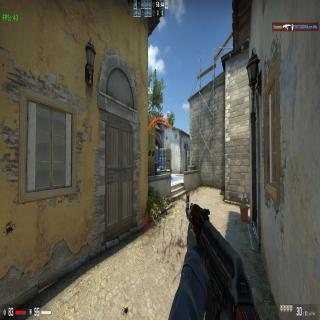CT-Body: (158, 160, 160, 168)
CT-Head: (158, 161, 159, 163)
